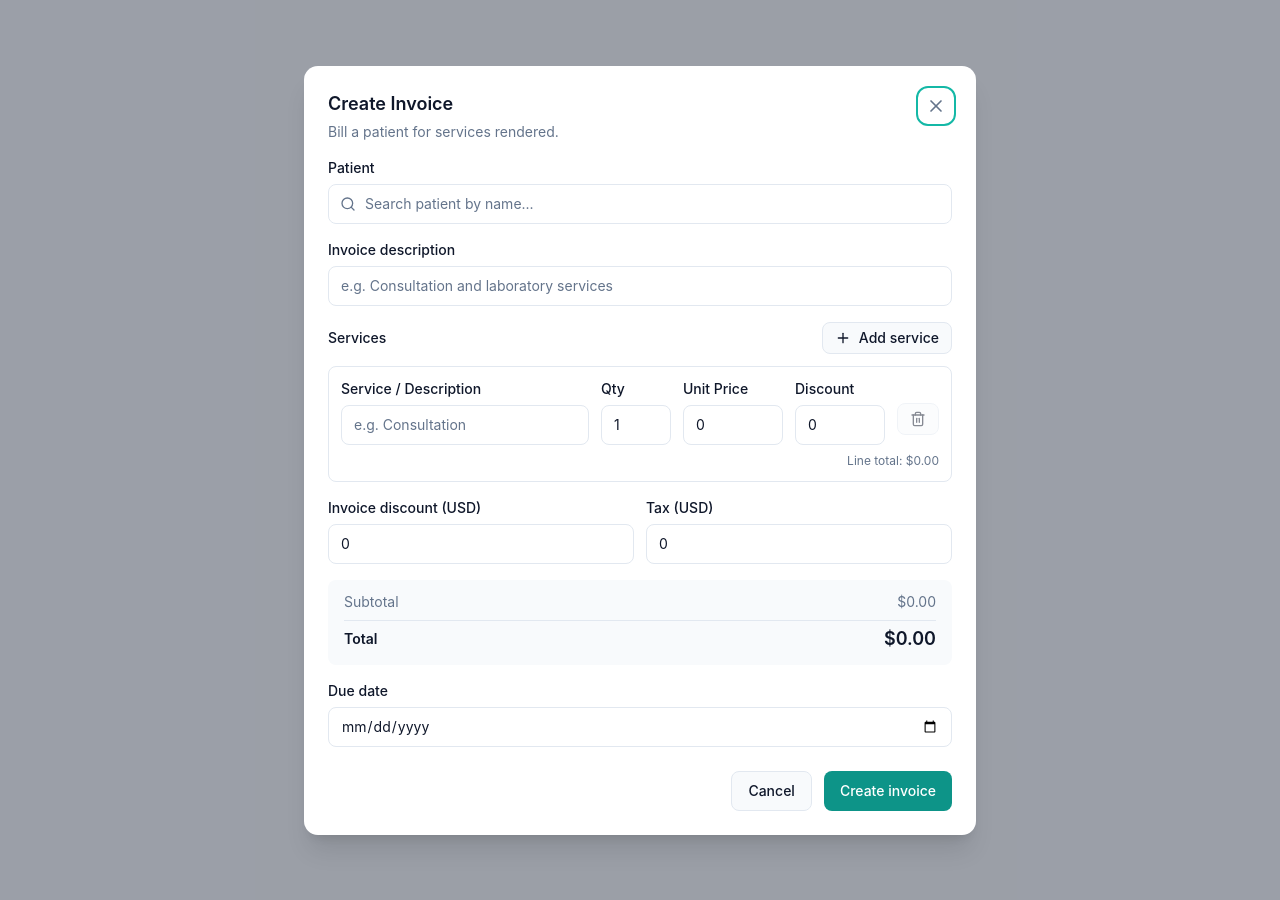
CreateInvoiceModal › searches and selects a patient, showing the selected patient card
Type "Neymar Jr" into the field with placeholder "Search patient by name...".
click(640, 204); type("Neymar Jr")  # box [328,184,952,224]
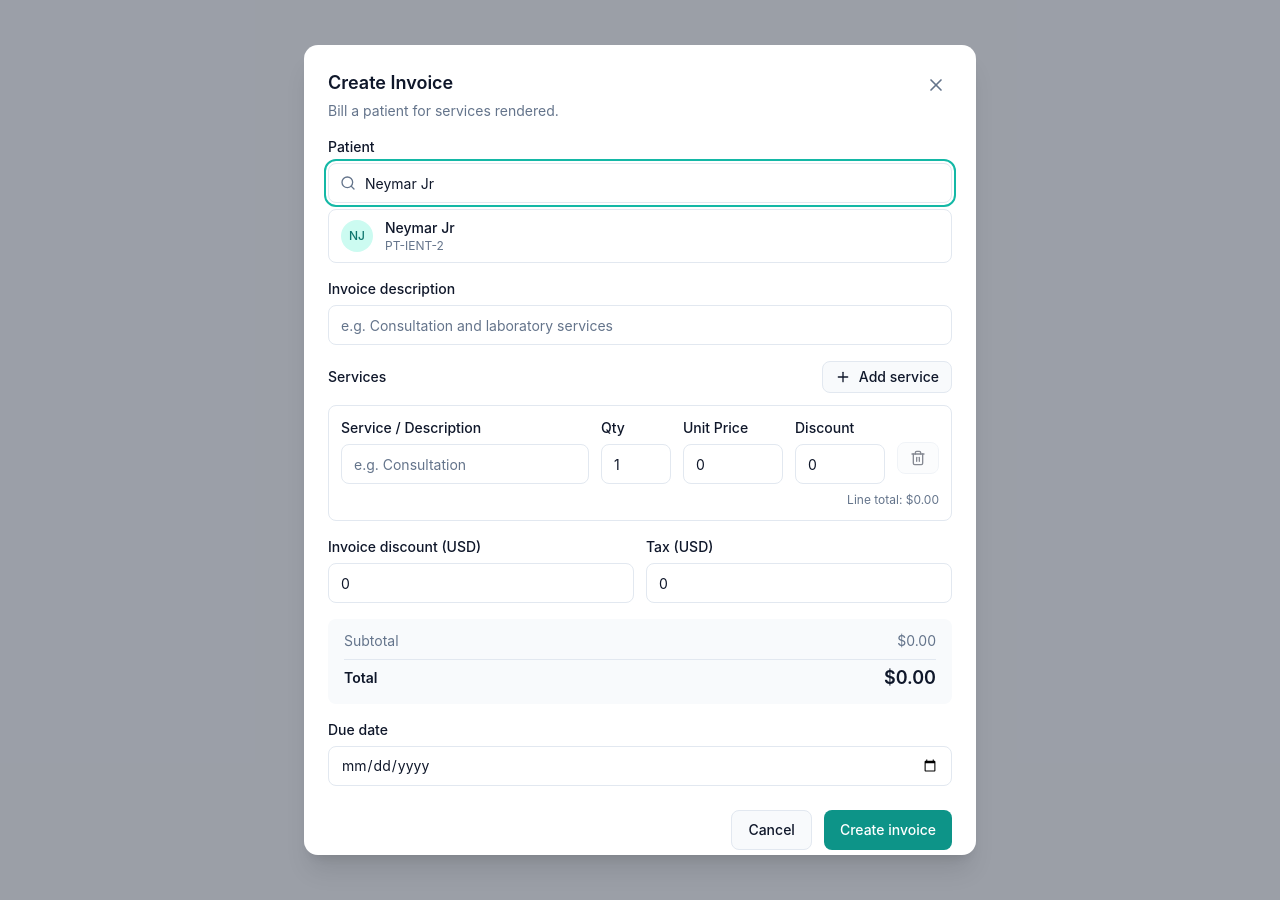
Click the text "Neymar Jr".
click(420, 228)  # box [385,218,455,238]
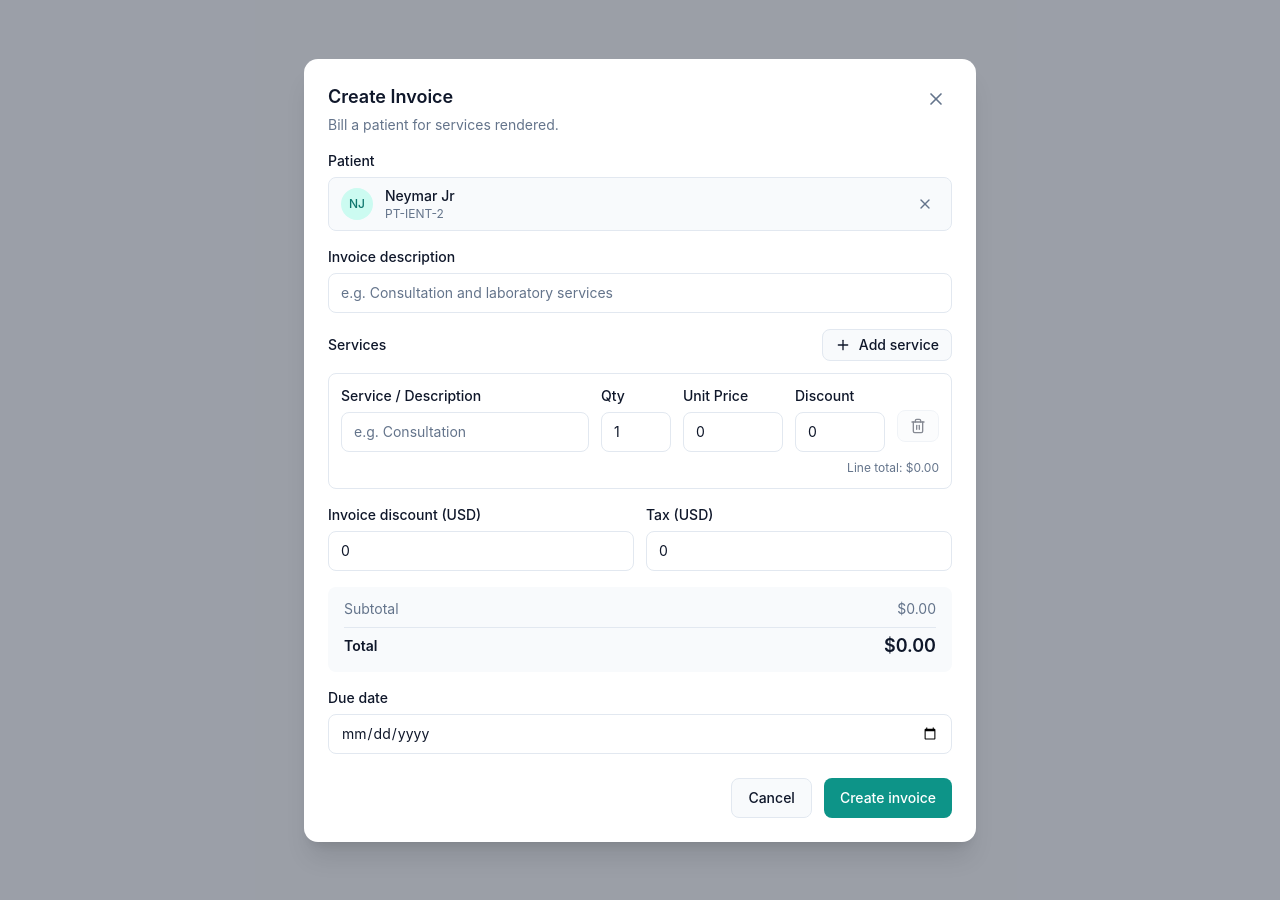
Expected: the field with placeholder "Search patient by name..." is not shown
Expected: the text "Neymar Jr" is shown, [385,186,455,206]
Expected: the button named "change patient" is shown, [911,190,939,218]
